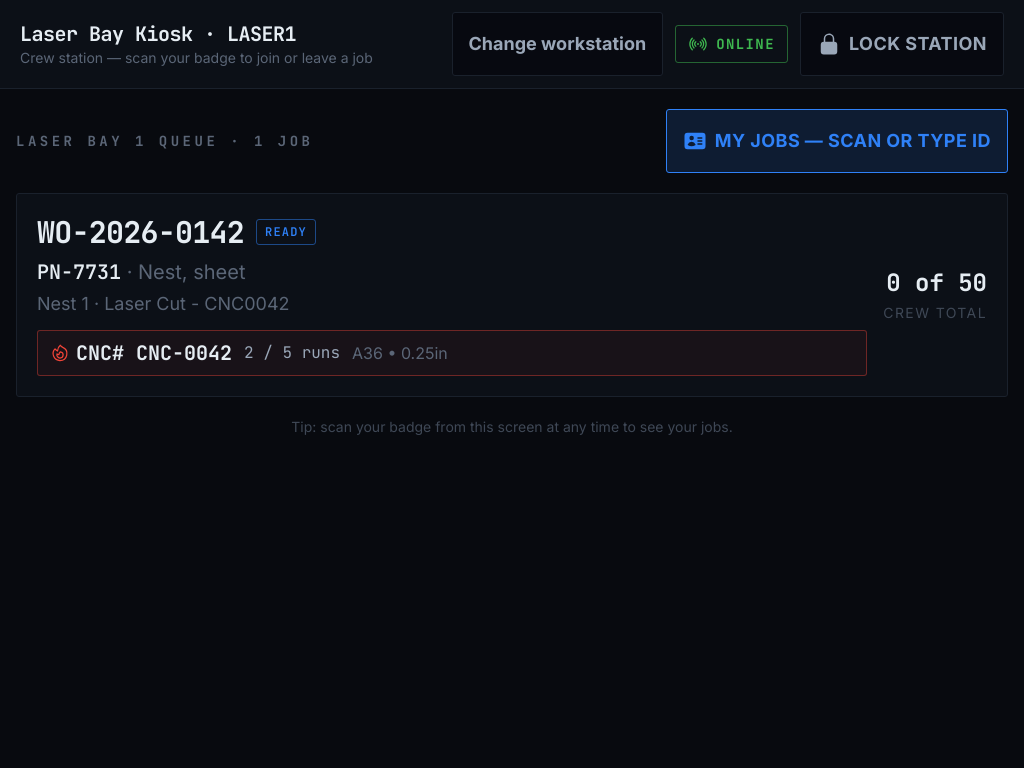
Test: CrewStationKiosk doc viewer (badge-gated) › hides the VIEW NEST entry when the nest has no attached PDF
Click the button "WO-2026-0142". click: {"x": 512, "y": 385}
box: [16, 193, 1008, 397]
(page scrolled)
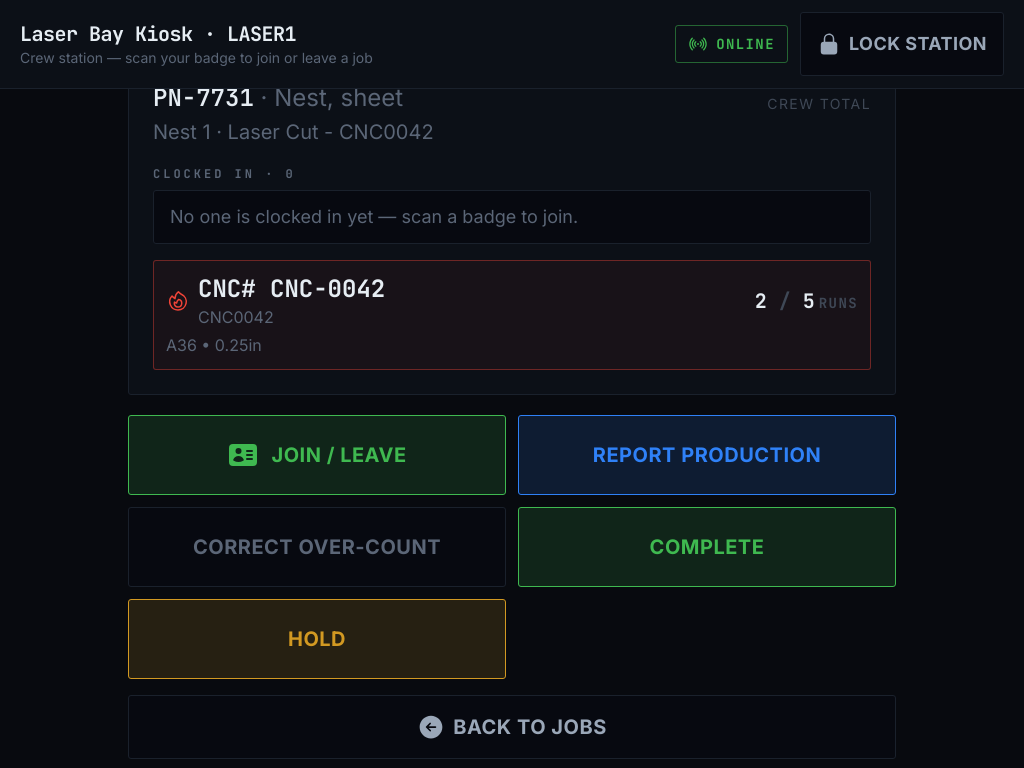
Expected: the element named "job detail" is shown
